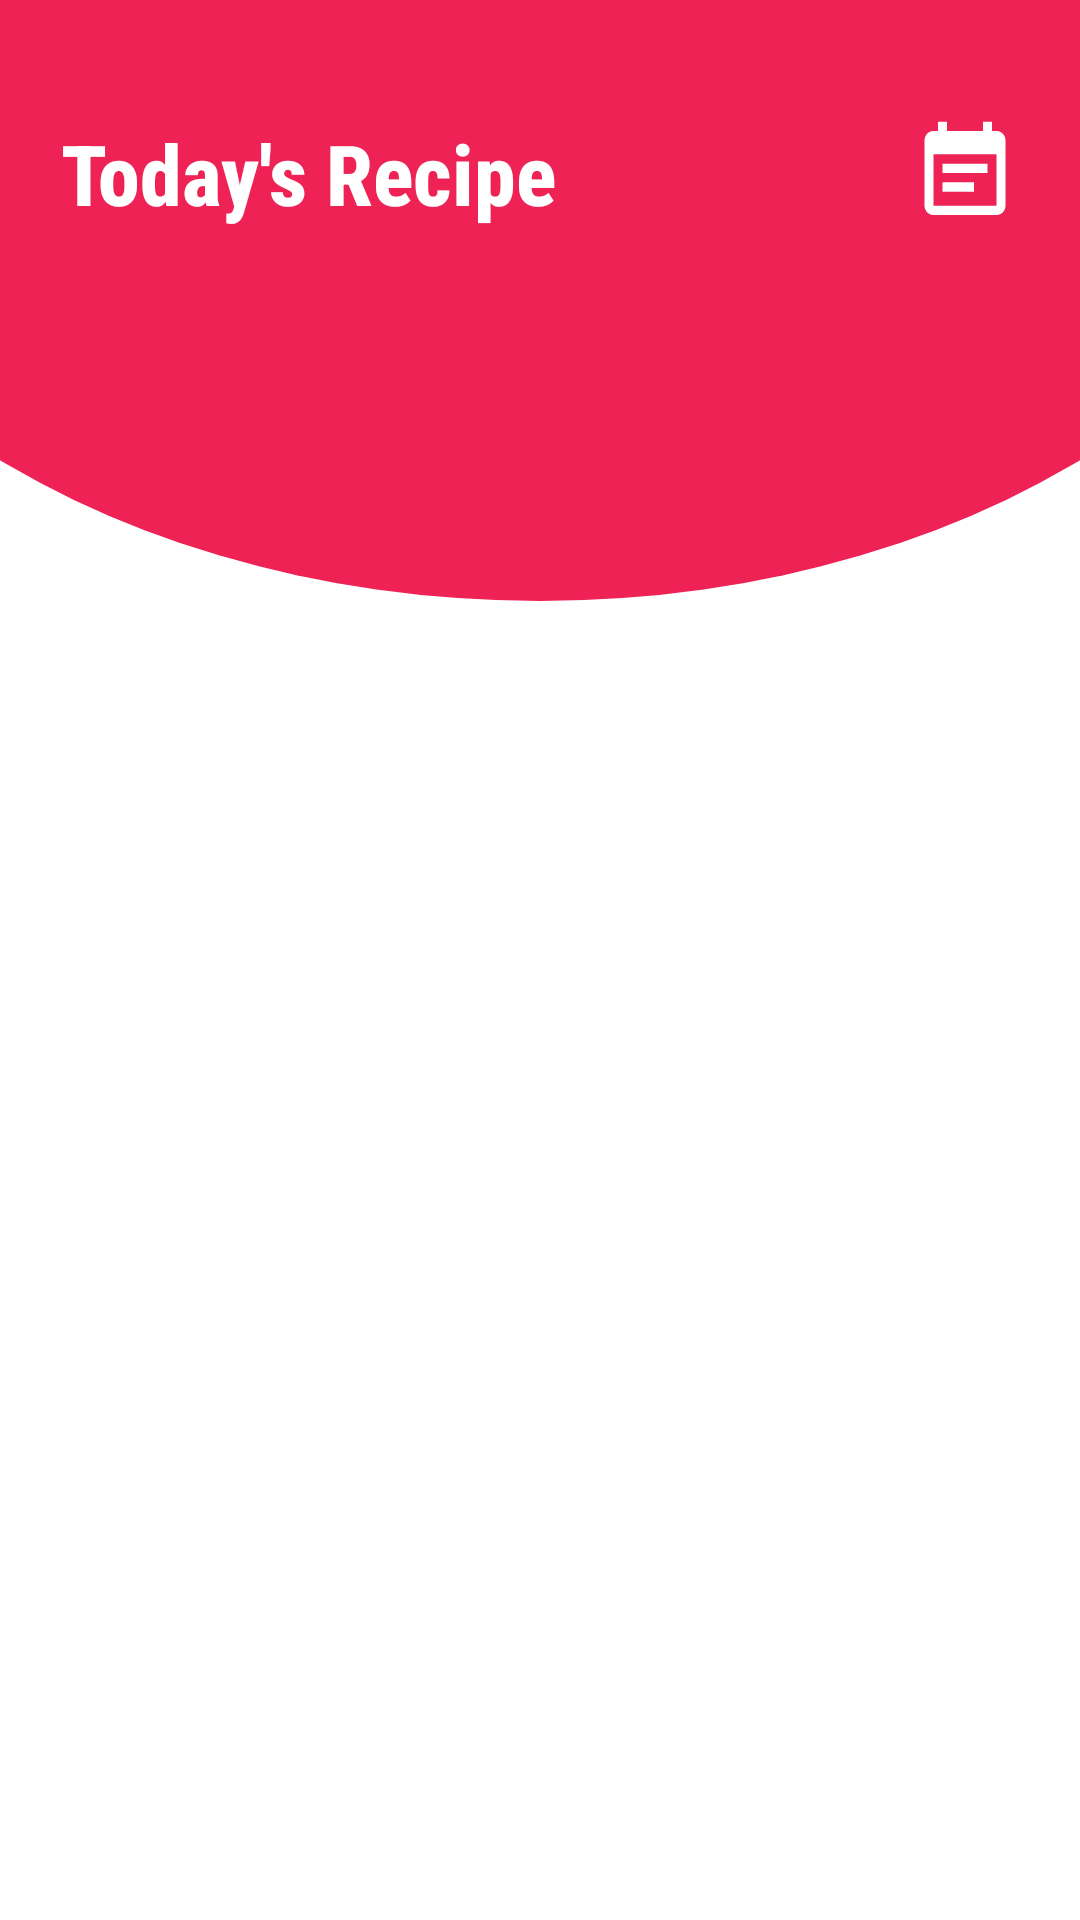

Named icons in this screenshot (1080*1920) and their centers, (x,y):
notes: (965,168)
